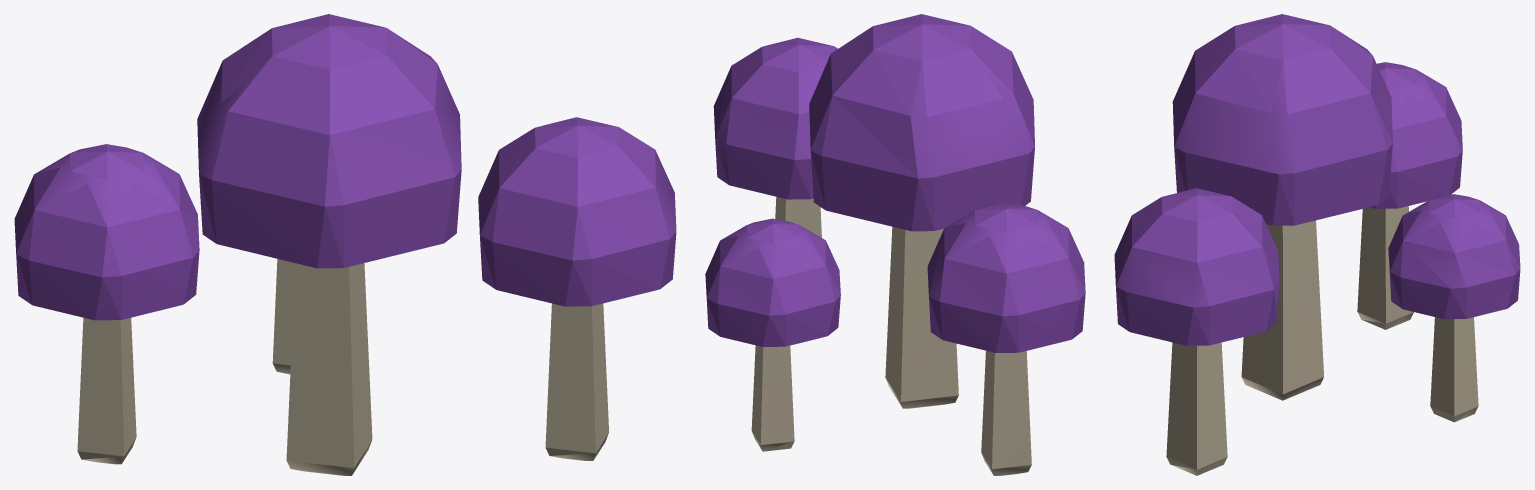
File: prop_mushroom_lod1.glb
The picture shows the model from 3 angles, left to right: view 1: azimuth 30°, elevation 25°; view 2: azimuth 150°, elevation 25°; view 3: azimuth 270°, elevation 25°; orthographic projection. The views are drawn at different scales.
Visible parts, largest first — view 1: prop_mushroom_lod1; view 2: prop_mushroom_lod1; view 3: prop_mushroom_lod1.
Part boxes in pixels (left/top/right/bottom): prop_mushroom_lod1: left=14, top=14, right=676, bottom=475; prop_mushroom_lod1: left=705, top=14, right=1085, bottom=475; prop_mushroom_lod1: left=1114, top=14, right=1520, bottom=475.
Size of the model in its own units: 0.6059 by 0.4713 by 0.4732.
